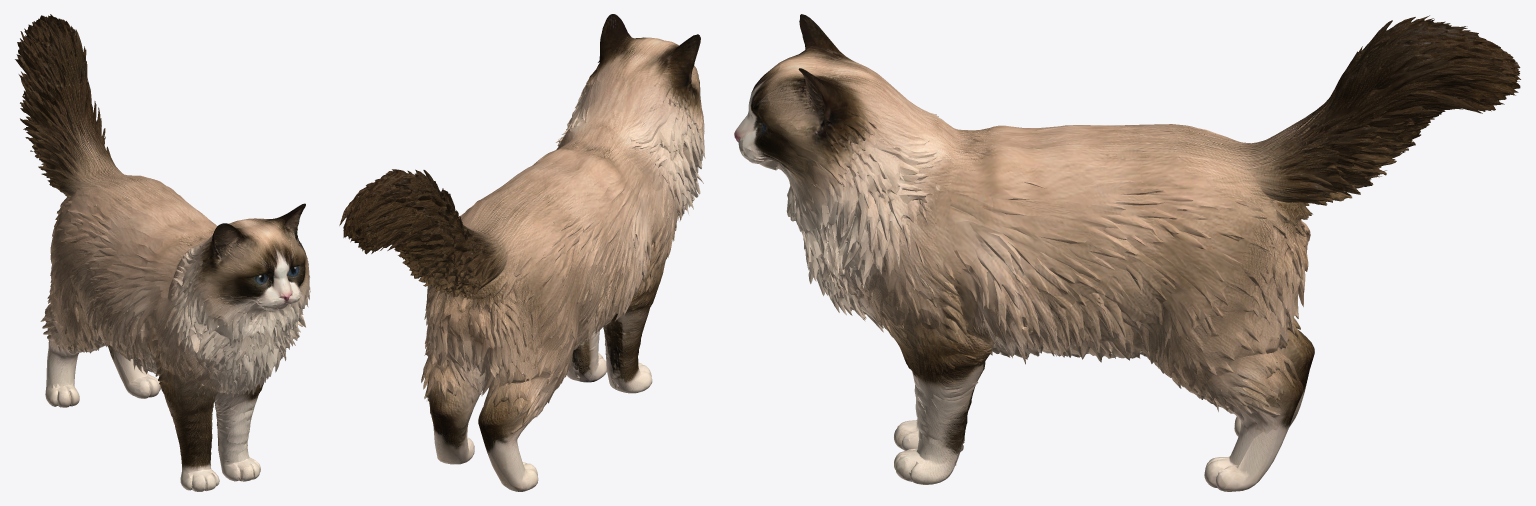
Rendered from mochi-longhair-hq.glb.
3 renders of one model, left to right at view 1: azimuth 30°, elevation 25°; view 2: azimuth 150°, elevation 25°; view 3: azimuth 270°, elevation 25°, orthographic. The views are drawn at different scales.
Visible parts, largest first — view 1: output_unwrapped; view 2: output_unwrapped; view 3: output_unwrapped.
Part boxes in pixels (<box>): output_unwrapped: <box>15,14,310,491</box>; output_unwrapped: <box>339,14,705,491</box>; output_unwrapped: <box>734,14,1520,491</box>.
Bounding box in the file's own units: 0.5056 × 1.2 × 1.89.
1 material, 1 textured.
